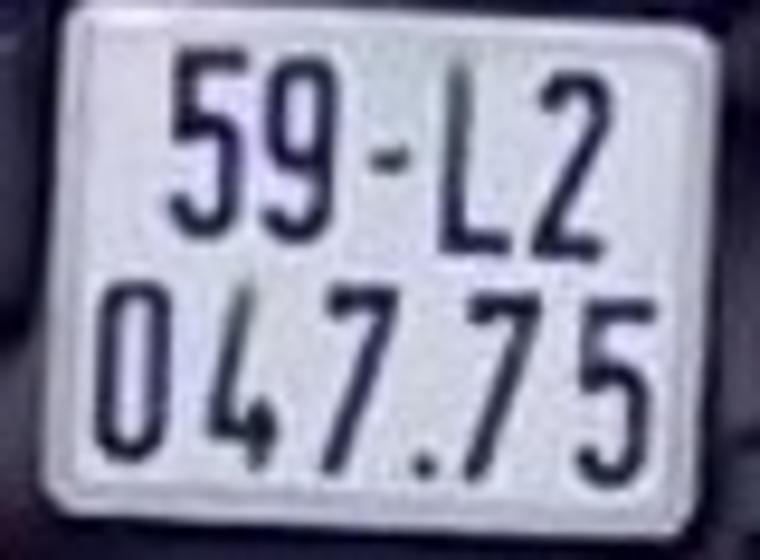-: (369, 139, 413, 180)
.: (404, 442, 433, 481)
0: (96, 274, 176, 471)
2: (541, 60, 612, 267)
4: (205, 278, 281, 474)
5: (164, 37, 249, 237), (581, 295, 659, 495)
7: (308, 278, 398, 482), (461, 285, 542, 494)
9: (254, 60, 339, 241)
L: (434, 60, 518, 268)
